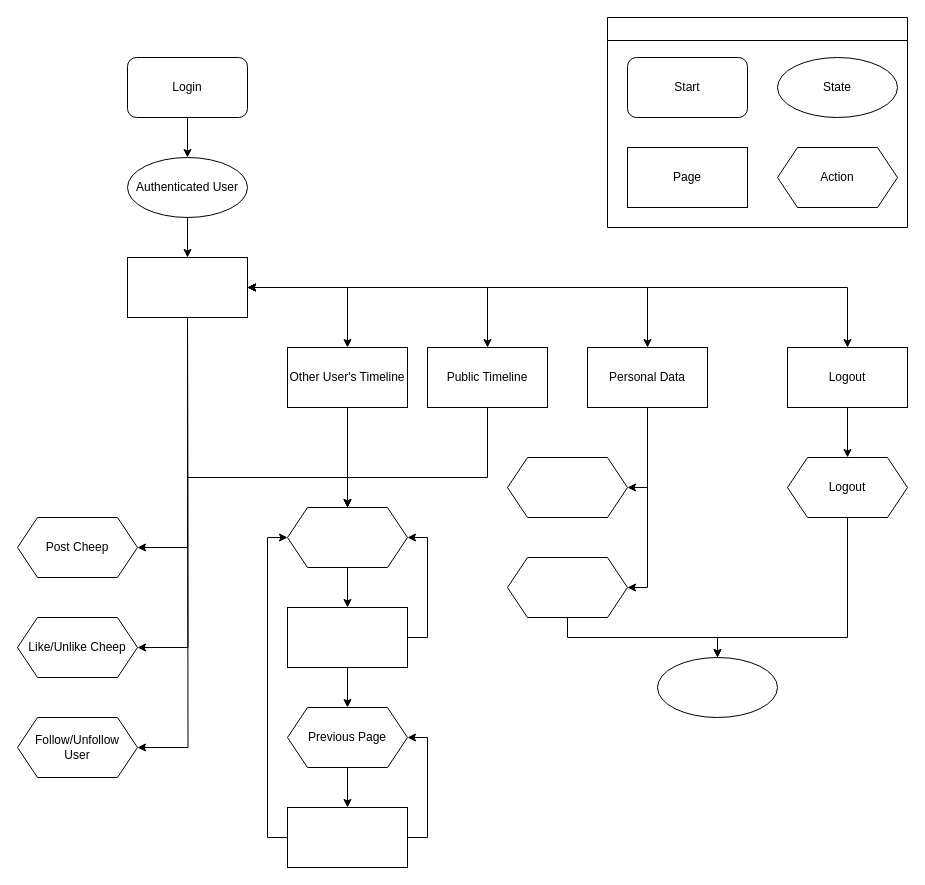
The diagram is 925 pixels wide and 885 high, and some of its shapes have lost their labels. The shapes that lost their labels are listed below. From the top down, each one's box as (x1, y1, x2, y2) in pixels, then its label:
(606, 16, 908, 228): Legend
(126, 256, 248, 318): My Timeline
(506, 456, 628, 518): Download
(286, 506, 408, 568): Next Page
(506, 556, 628, 618): Forget Me
(286, 606, 408, 668): Page n+1
(656, 656, 778, 718): Unauthenticated User
(286, 806, 408, 868): Page n-1
